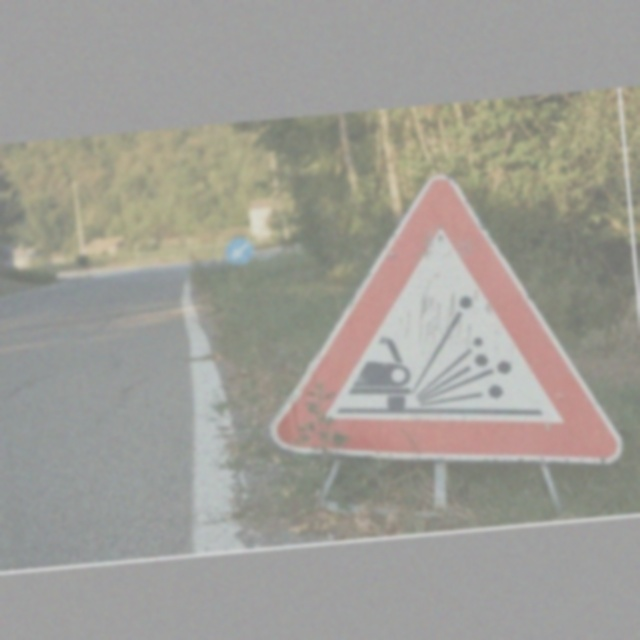Loose_Gravel: (262, 159, 617, 490)
